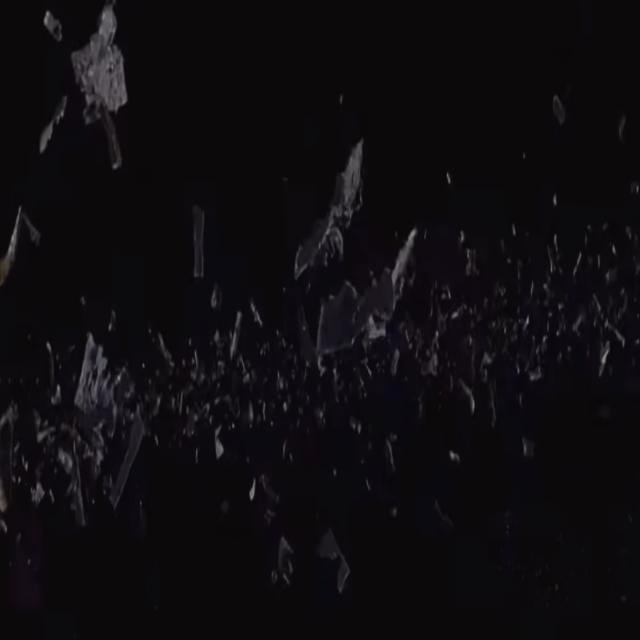large_debris: (57, 315, 149, 525), (32, 0, 139, 177), (310, 220, 425, 380), (284, 124, 368, 288), (0, 194, 41, 290), (317, 506, 356, 602), (184, 185, 208, 290)
